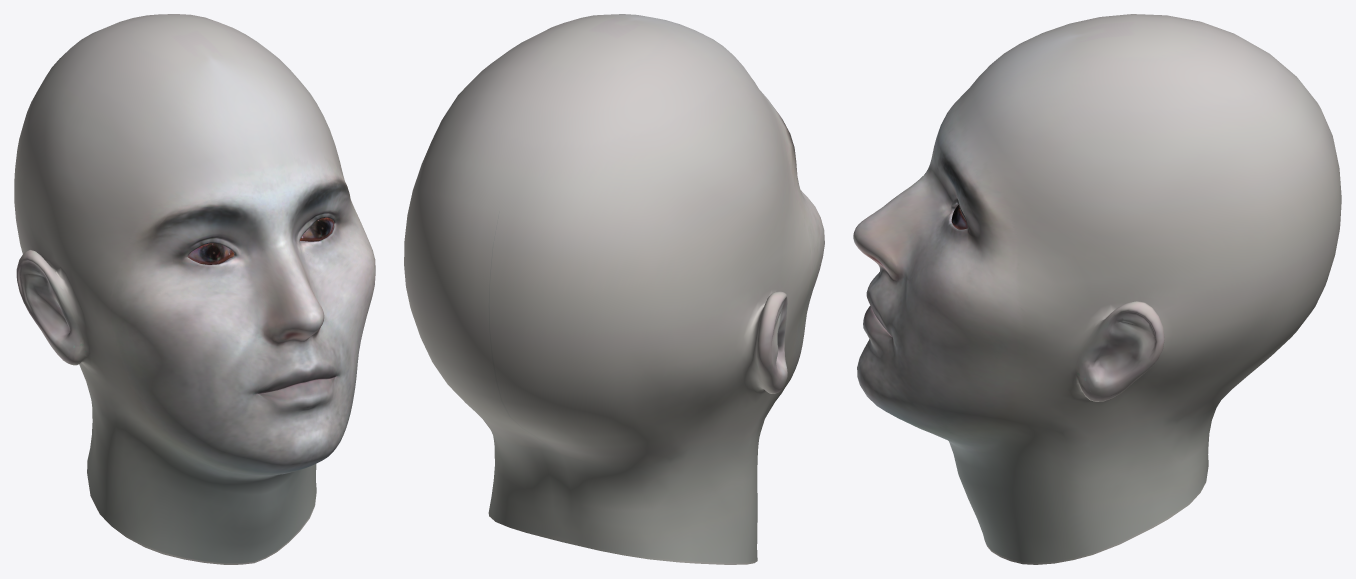
The picture shows the model from 3 angles, left to right: view 1: azimuth 30°, elevation 25°; view 2: azimuth 150°, elevation 25°; view 3: azimuth 270°, elevation 25°; orthographic projection. The views are drawn at different scales.
Parts seen in each view (by area): view 1: skin_hi, eyeR_hi, eyeL_hi; view 2: skin_hi; view 3: skin_hi.
Boxes of the visible parts, x1,y1,x2,y2 form: skin_hi: [14, 14, 375, 564]; eyeR_hi: [187, 243, 234, 264]; eyeL_hi: [300, 217, 334, 241]; skin_hi: [404, 14, 824, 564]; skin_hi: [853, 14, 1341, 564].
Size of the model in its own units: 193 by 283 by 244.
